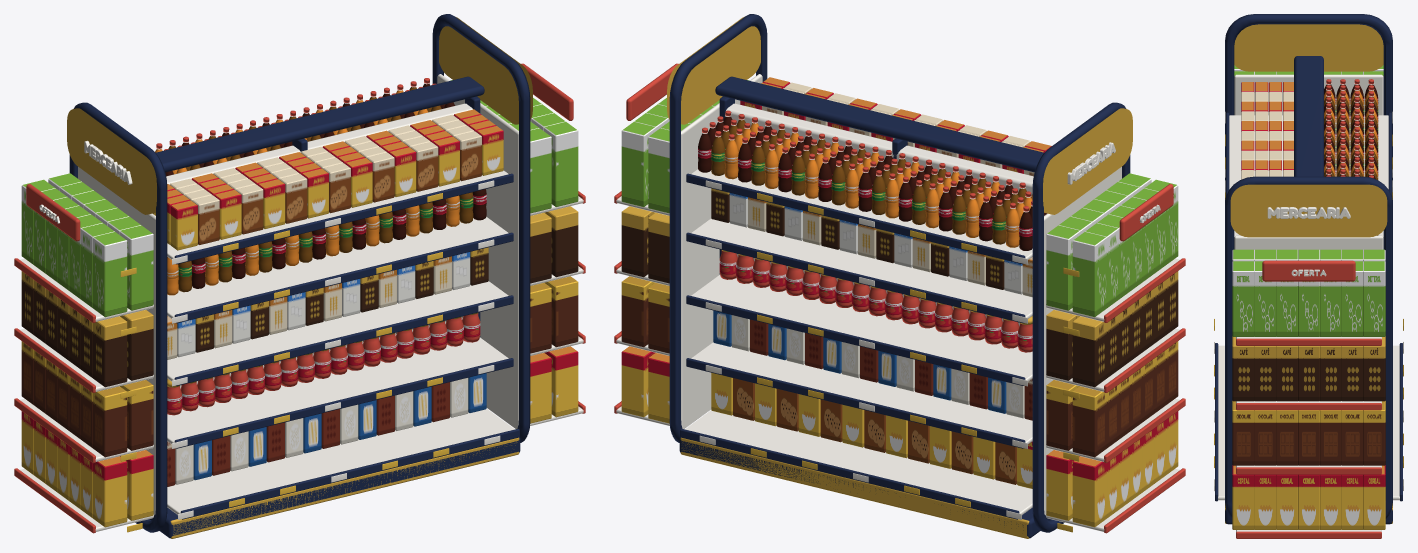
File: shelf-grocery.fbx
The picture shows the model from 3 angles, left to right: view 1: azimuth 30°, elevation 25°; view 2: azimuth 150°, elevation 25°; view 3: azimuth 270°, elevation 25°; orthographic projection. The views are drawn at different scales.
Parts seen in each view (by area): view 1: Body, Anim Fill 3, Anim Fill 0, Anim Fill 1, Anim Fill 2; view 2: Body, Anim Fill 3, Anim Fill 0, Anim Fill 1, Anim Fill 2; view 3: Body, Anim Fill 0, Anim Fill 2, Anim Fill 3, Anim Fill 1.
Boxes of the visible parts, x1,y1,x2,y2 form: Body: [14, 14, 585, 538]; Anim Fill 3: [21, 143, 241, 527]; Anim Fill 0: [356, 78, 578, 430]; Anim Fill 1: [262, 97, 416, 453]; Anim Fill 2: [168, 120, 328, 471]; Body: [614, 14, 1185, 538]; Anim Fill 3: [965, 141, 1178, 527]; Anim Fill 0: [621, 77, 855, 431]; Anim Fill 1: [778, 98, 942, 452]; Anim Fill 2: [872, 120, 1030, 474]; Body: [1214, 14, 1403, 538]; Anim Fill 0: [1232, 235, 1385, 529]; Anim Fill 2: [1241, 109, 1378, 168]; Anim Fill 3: [1234, 65, 1383, 126]; Anim Fill 1: [1241, 150, 1378, 179].
Size of the model in its own units: 2.85 by 2.07 by 1.02.
